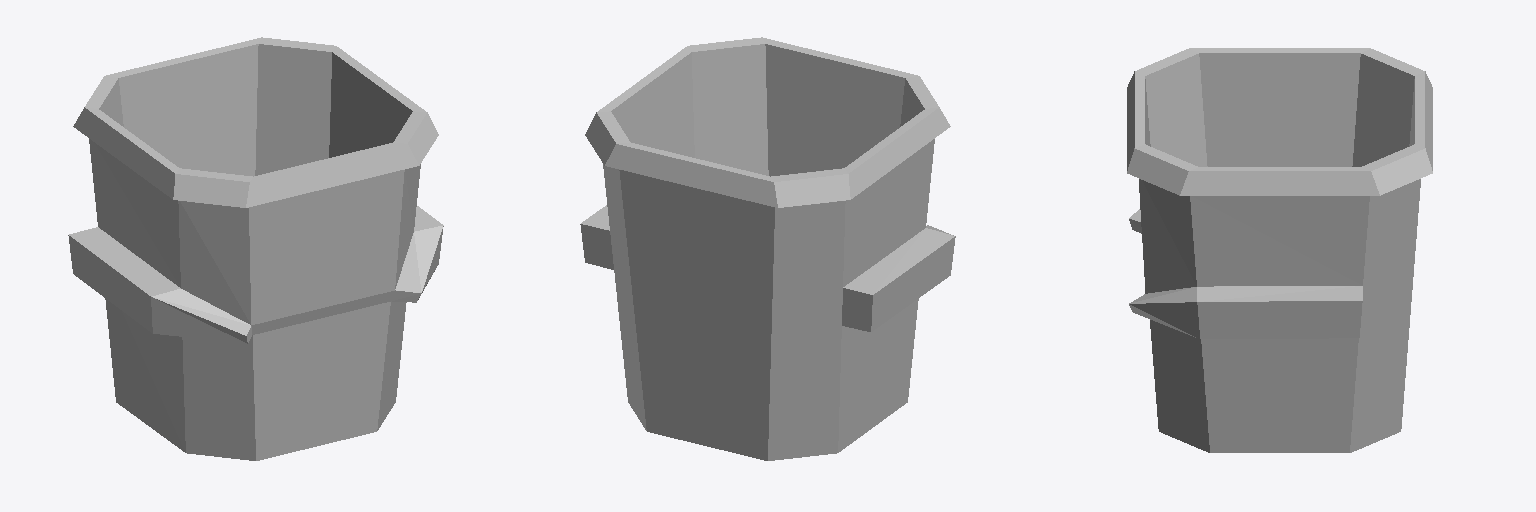
Rendered from quart_container.obj.
The picture shows the model from 3 angles: view 1: azimuth 30°, elevation 25°; view 2: azimuth 150°, elevation 25°; view 3: azimuth 270°, elevation 25°; orthographic projection.
Visible parts, largest first — view 1: Cube; view 2: Cube; view 3: Cube.
Part boxes in pixels (bbox=[...]): Cube: bbox=[68, 37, 443, 460]; Cube: bbox=[580, 37, 955, 460]; Cube: bbox=[1127, 48, 1432, 452].
Size of the model in its own units: 2.79 by 2.66 by 2.53.